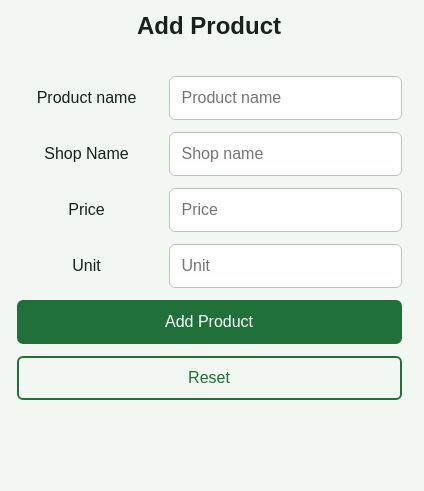
Test: AddProductForm › shows an API error
Type "Milk" into the field labelled "Product name". click: (285, 98)
box: top-left (168, 76), bottom-right (402, 120)
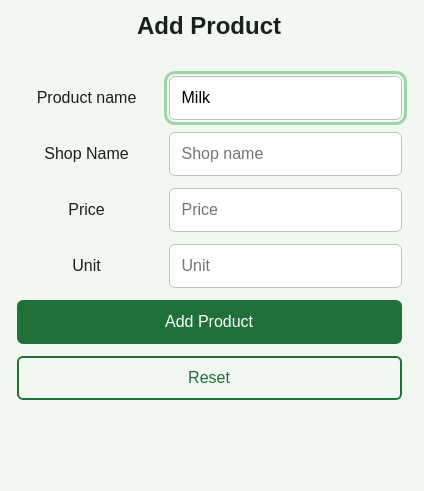
Type "ICA" into the field labelled "Shop Name". click: (285, 154)
box: top-left (168, 132), bottom-right (402, 176)
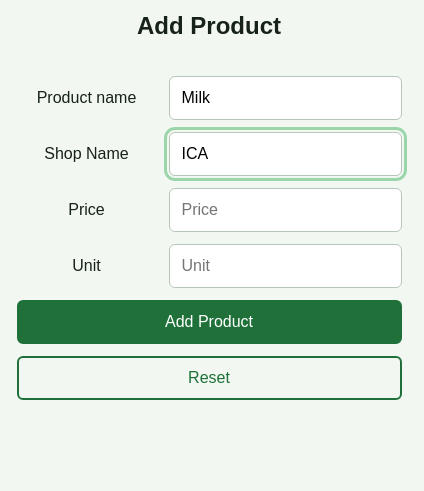
Type "10.9" into the number field labelled "Price". click: (285, 210)
box: top-left (168, 188), bottom-right (402, 232)
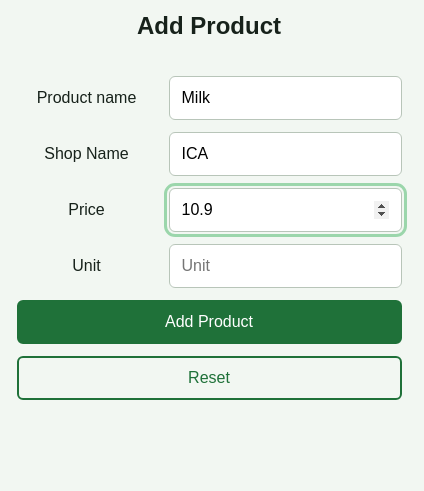
Type "1L" into the field labelled "Unit". click: (285, 266)
box: top-left (168, 244), bottom-right (402, 288)
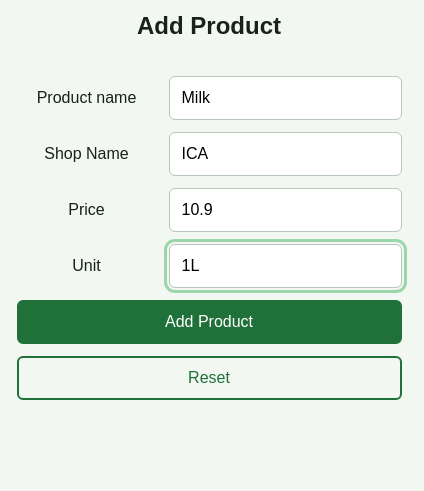
Click the button "Add Product". click: click(209, 322)
box: top-left (16, 300), bottom-right (402, 344)
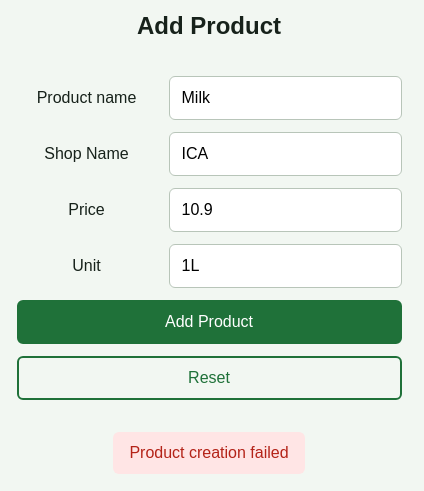
Now the text "Product creation failed" is shown, box top-left (113, 432), bottom-right (305, 474)
